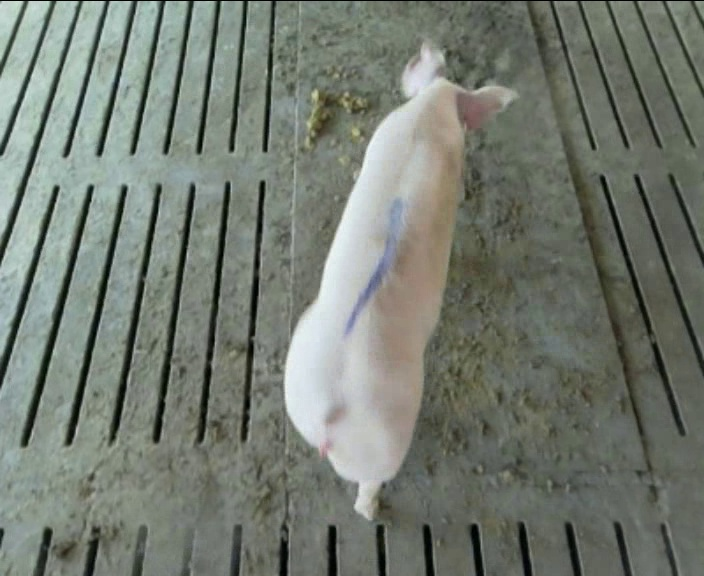pig: (285, 41, 515, 519)
